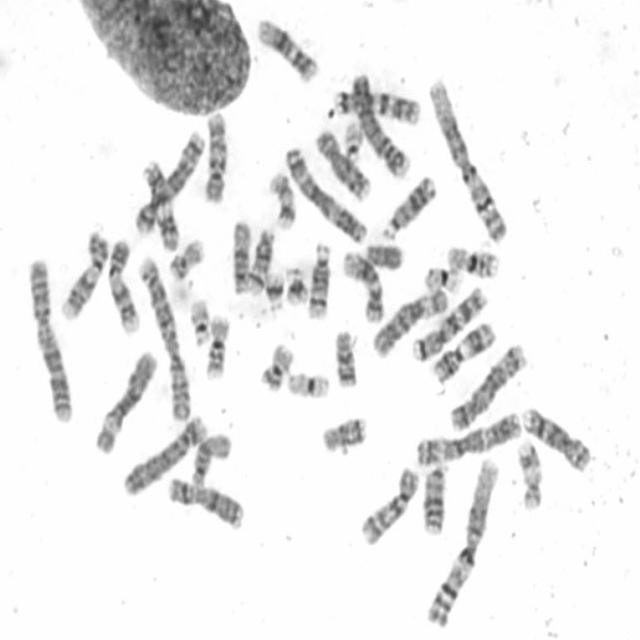A1: (428, 75, 508, 248), (424, 456, 500, 630)
A2: (139, 257, 191, 423), (24, 256, 74, 426)
A3: (284, 146, 369, 245), (412, 410, 523, 466)
B4: (123, 412, 209, 498), (351, 72, 414, 179)
B5: (134, 128, 206, 236), (448, 341, 528, 432)
C10: (358, 464, 421, 546), (202, 112, 228, 204)
C11: (432, 320, 498, 385), (140, 160, 180, 252)
C12: (256, 15, 321, 86), (341, 250, 386, 326)
C6: (93, 349, 158, 457), (372, 288, 450, 360)
C7: (412, 284, 489, 366), (334, 91, 422, 127)
C8: (520, 404, 592, 474), (313, 130, 372, 202)
C9: (60, 225, 110, 323), (107, 237, 144, 335)
D13: (380, 175, 438, 241), (423, 461, 450, 537)
D14: (307, 240, 334, 322), (247, 226, 278, 297)
D15: (190, 432, 232, 488), (233, 216, 251, 294)
E16: (444, 245, 500, 280), (203, 312, 231, 381)
E17: (514, 437, 544, 513), (267, 172, 297, 232)
E18: (319, 416, 373, 458), (333, 326, 363, 390)
F19: (286, 371, 332, 403), (425, 264, 463, 298)
F20: (257, 339, 296, 395), (167, 237, 204, 283)
G21: (284, 262, 311, 309), (263, 272, 285, 312)
G22: (188, 296, 213, 348), (342, 119, 365, 167)
X: (169, 476, 246, 532)
Y: (361, 242, 406, 274)
